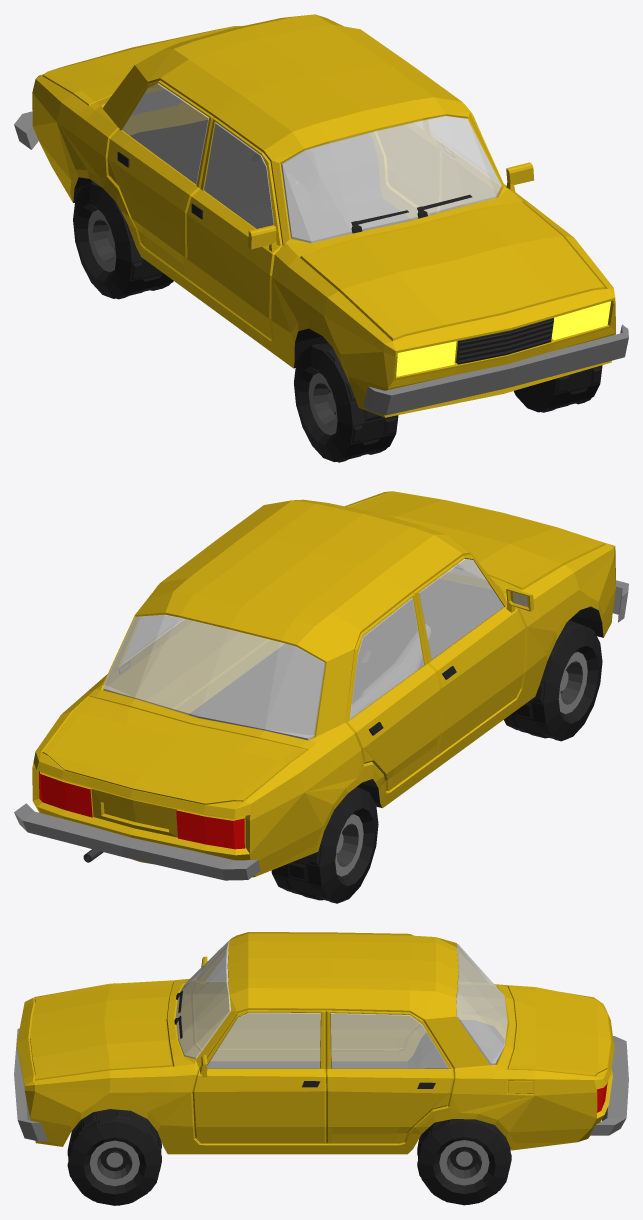
File: YELLOW.glb
3 views of the same model, one above another, from view 1: azimuth 30°, elevation 25°; view 2: azimuth 150°, elevation 25°; view 3: azimuth 270°, elevation 25° (orthographic). The views are drawn at different scales.
Parts seen in each view (by area): view 1: Car.001; view 2: Car.001; view 3: Car.001.
Part boxes in pixels (x1=…): Car.001: x1=14, y1=14, x2=628, y2=462; Car.001: x1=14, y1=491, x2=628, y2=903; Car.001: x1=14, y1=932, x2=628, y2=1205.
Bounding box in the file's own units: 1.79 × 1.54 × 4.29.
4 materials, 1 textured.
